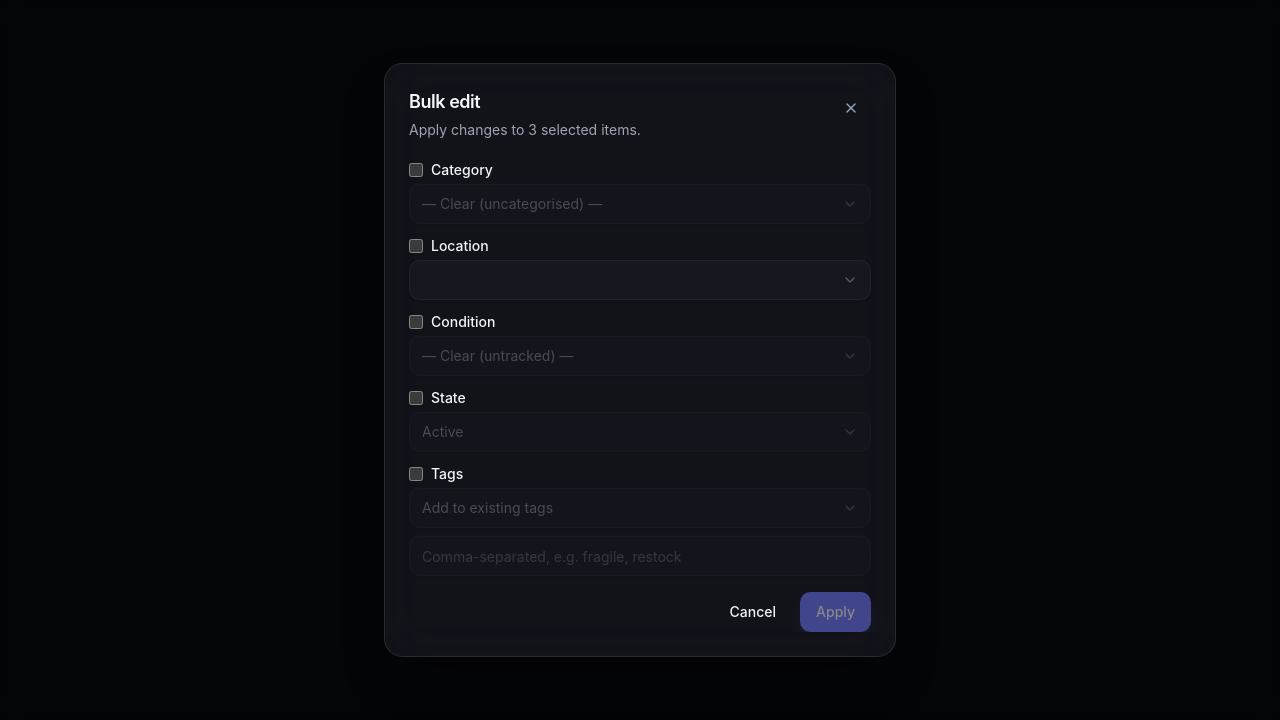
it: BulkEditDialog — the Apply gate › disables Apply until at least one field is enabled
The width and height of the screenshot is (1280, 720).
Expected: the button with test id "bulk-edit-apply" is disabled, 800,592 -> 871,632
Click the checkbox with test id "bulk-field-active".
click(416, 398)  # box 409,391 -> 423,405
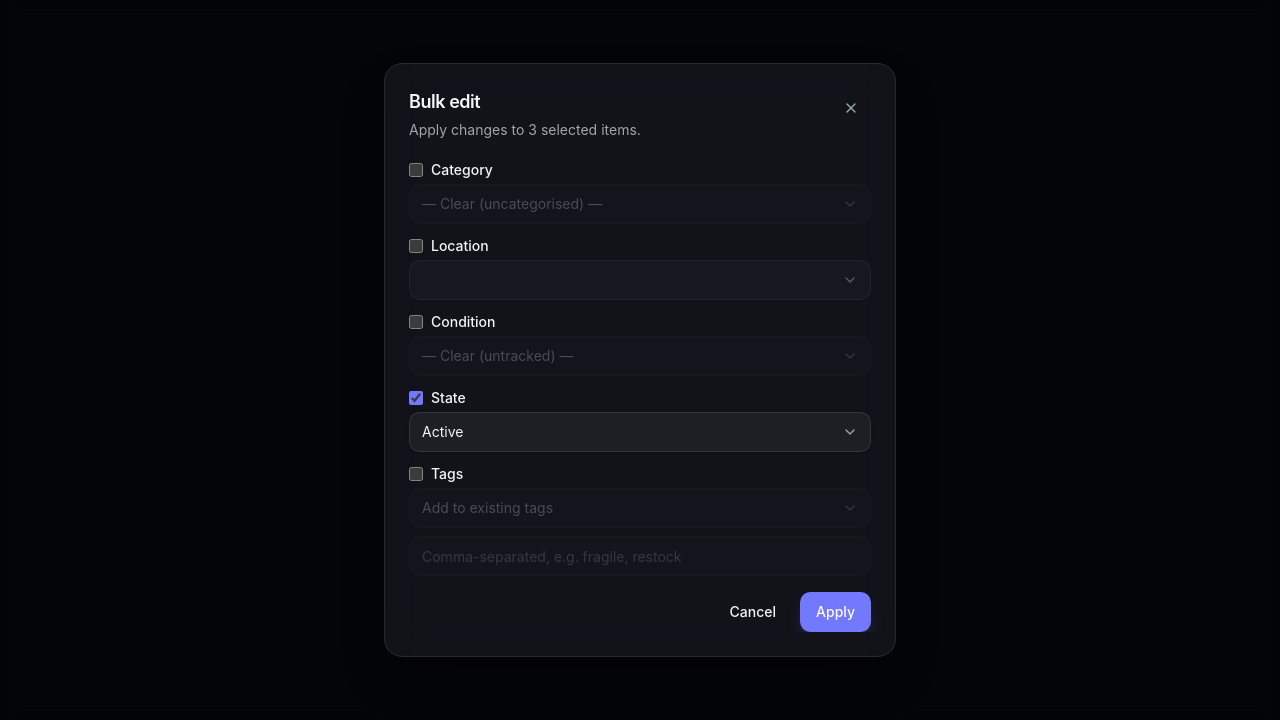
Now the button with test id "bulk-edit-apply" is enabled, box 800,592 -> 871,632
